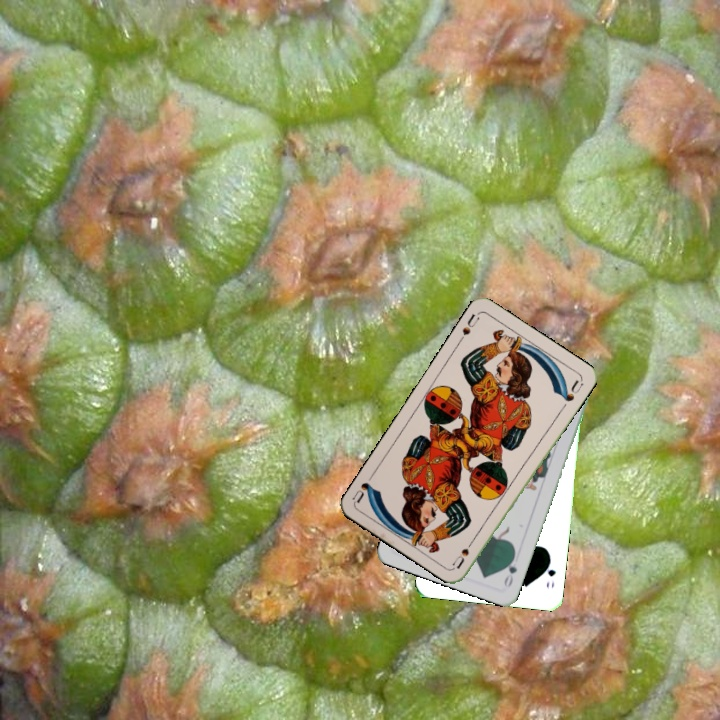GO: (500, 550, 519, 590), (541, 554, 558, 591)
SU: (448, 533, 478, 571), (454, 310, 482, 346)
